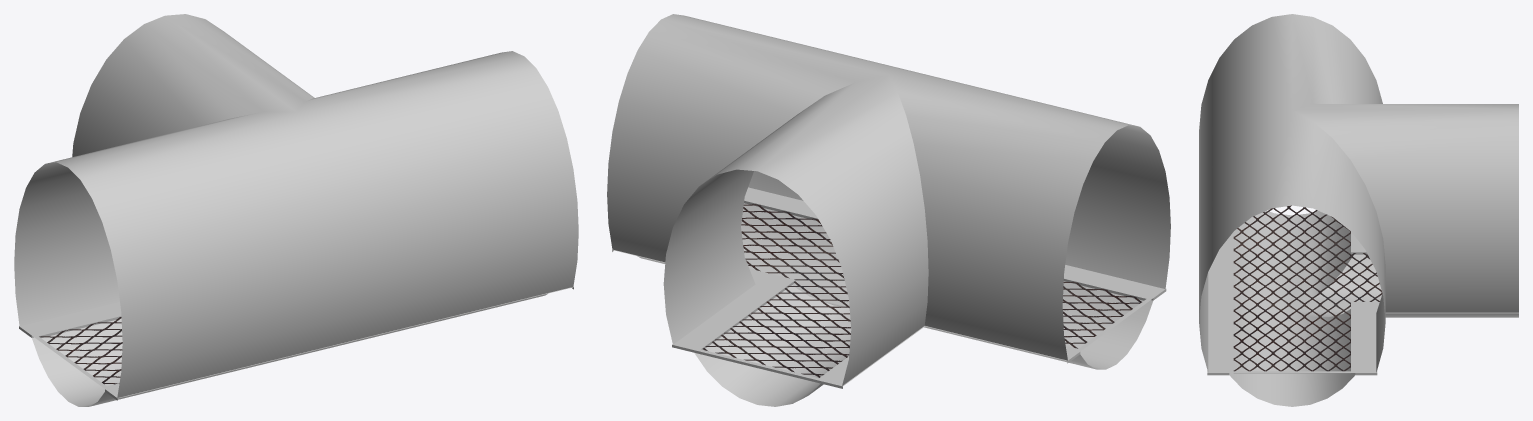
Rendered from Module_T.fbx.
3 renders of one model, left to right at view 1: azimuth 30°, elevation 25°; view 2: azimuth 150°, elevation 25°; view 3: azimuth 270°, elevation 25°, orthographic. The views are drawn at different scales.
Parts seen in each view (by area): view 1: Module_T; view 2: Module_T; view 3: Module_T.
Part boxes in pixels (x1=…): Module_T: x1=14, y1=14, x2=578, y2=406; Module_T: x1=607, y1=14, x2=1170, y2=406; Module_T: x1=1199, y1=14, x2=1518, y2=406.
Bounding box in the file's own units: 2190 × 1074 × 1546.
